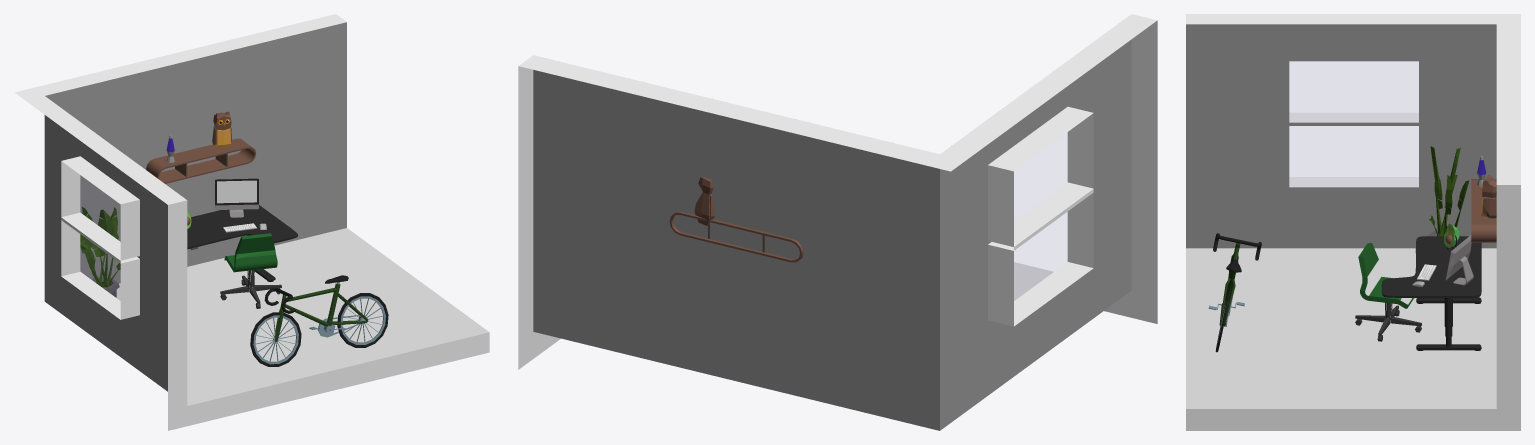
File: portfolio_scene_baked_final.gltf
3 views of the same model, side by side, from view 1: azimuth 30°, elevation 25°; view 2: azimuth 150°, elevation 25°; view 3: azimuth 270°, elevation 25° (orthographic). The views are drawn at different scales.
Parts seen in each view (by area): view 1: Plane, bike, Desk, SM_Shelf:SM_Shelf1, Chair, FlowerPot4, Screen, iMac, Owl_01_Cube.027; view 2: Plane, SM_Shelf:SM_Shelf1, Owl_01_Cube.027; view 3: Plane, Desk, Chair, FlowerPot4, bike, SM_Shelf:SM_Shelf1, iMac, Owl_01_Cube.027.
Boxes of the visible parts, bbox=[...] form: Plane: bbox=[14, 14, 489, 430]; bike: bbox=[250, 275, 388, 366]; Desk: bbox=[187, 205, 297, 281]; SM_Shelf:SM_Shelf1: bbox=[146, 138, 256, 183]; Chair: bbox=[220, 233, 281, 308]; FlowerPot4: bbox=[80, 207, 120, 297]; Screen: bbox=[217, 180, 256, 203]; iMac: bbox=[215, 178, 259, 217]; Owl_01_Cube.027: bbox=[212, 111, 231, 147]; Plane: bbox=[518, 14, 1157, 430]; SM_Shelf:SM_Shelf1: bbox=[669, 211, 803, 262]; Owl_01_Cube.027: bbox=[694, 176, 714, 225]; Plane: bbox=[1186, 14, 1520, 430]; Desk: bbox=[1381, 236, 1481, 350]; Chair: bbox=[1355, 243, 1421, 341]; FlowerPot4: bbox=[1427, 146, 1469, 236]; bike: bbox=[1208, 233, 1261, 352]; SM_Shelf:SM_Shelf1: bbox=[1471, 179, 1496, 242]; iMac: bbox=[1445, 235, 1473, 285]; Owl_01_Cube.027: bbox=[1481, 175, 1496, 218].
Size of the model in its own units: 5.72 by 3.84 by 4.74.
